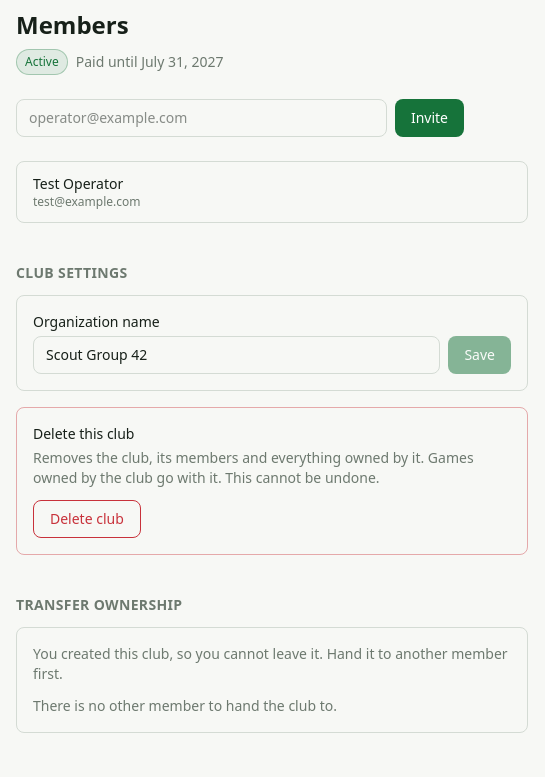
OrgMembersPage settings › renames the club through the org update endpoint
This screenshot has width=545, height=777.
Replace the text in the field with test id "org-name-input" with "Scout Group 7": point(237, 355) [33,336,440,374]
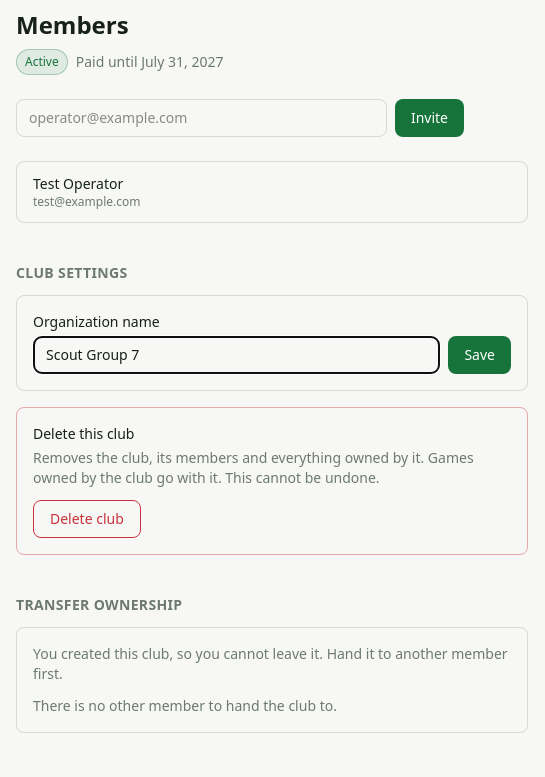
Click the button with test id "org-rename-save": point(480, 355) [448,336,511,374]
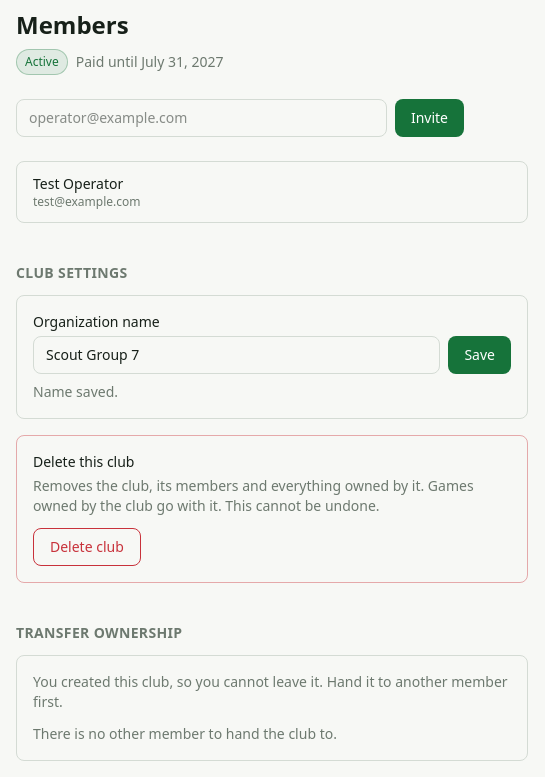
Now the text "Name saved." is shown, box [33,382,118,401]
